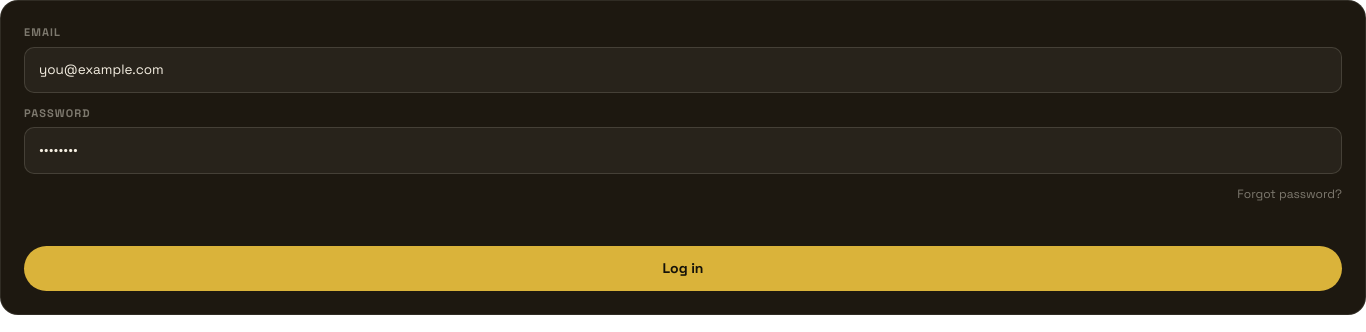
Test: AuthForm › shows a fallback error message for a non-ApiError failure
Type "a@b.com" into the field labelled "Email" at (683, 70), box 24,46 -> 1342,93
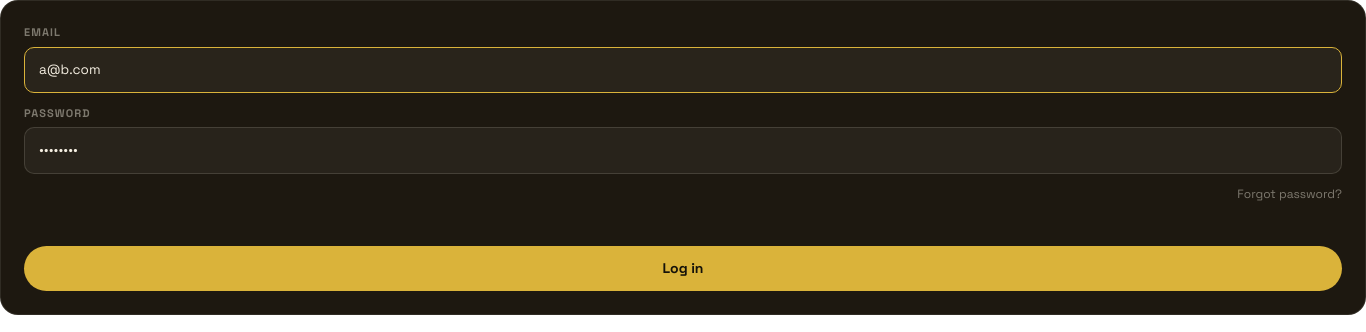
Type "password123" into the password field labelled "Password" at (683, 150), box 24,127 -> 1342,174
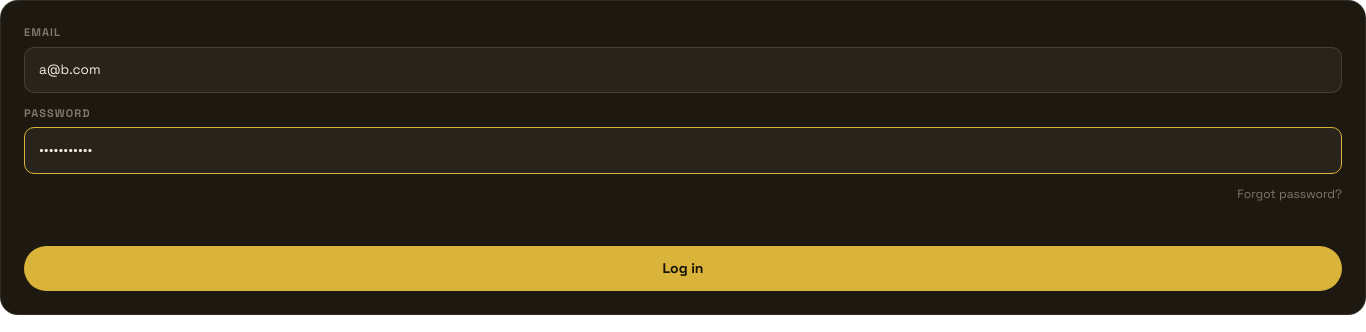
Click the button "Log in" at (683, 268), box 24,246 -> 1342,290
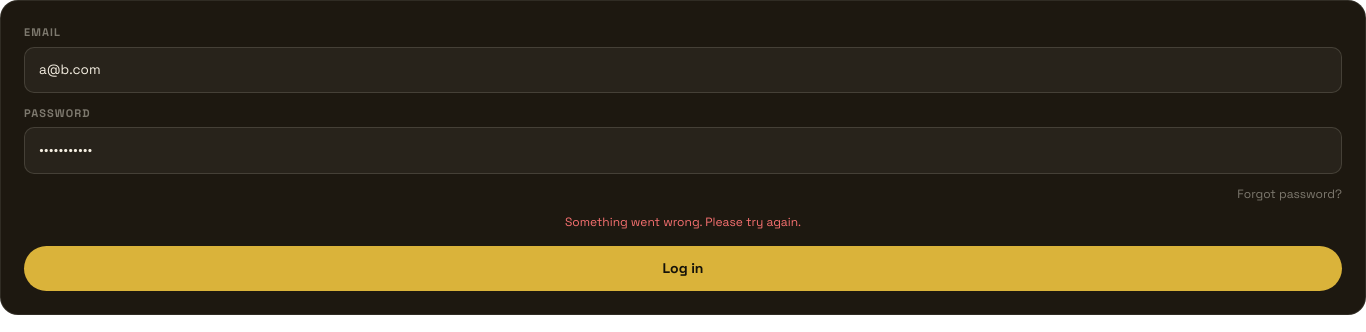
Check: the message reads "Something went wrong. Please try again.", box 565,214 -> 801,230
